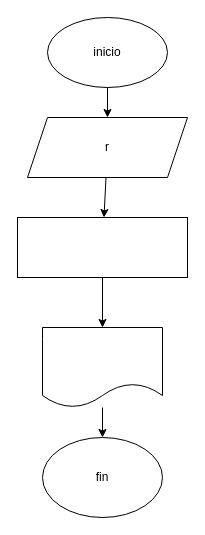
Image size: 205x535. Some labels were removed from this diagram. The shapes that lost their labels are listed below. From the top down, each one's centre as x and y in pixels, then its label:
At (x=102, y=247): "a= πr 2 p=2 π".
At (x=102, y=367): "a,p".
